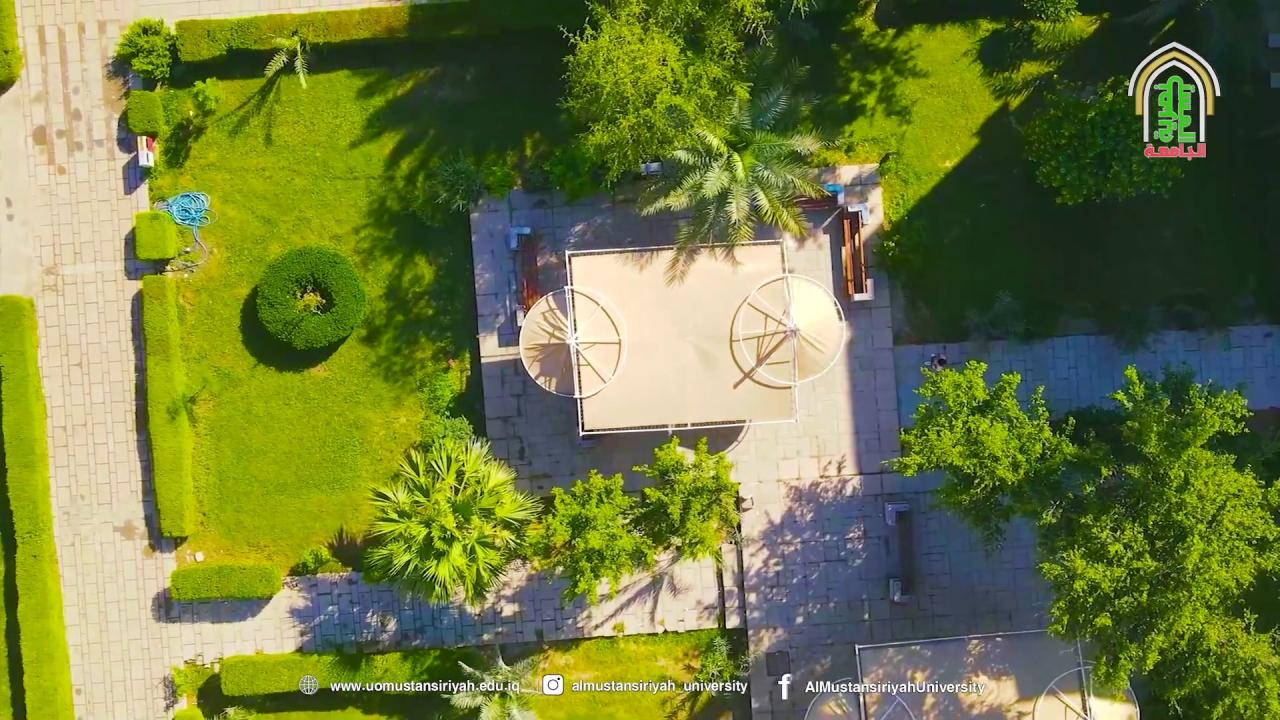tree: (881, 356, 1278, 718), (554, 0, 858, 284), (879, 357, 1084, 558), (555, 0, 770, 191), (360, 430, 544, 609), (442, 627, 758, 719), (1018, 72, 1186, 206), (523, 467, 655, 608), (630, 433, 744, 566), (253, 243, 367, 352), (406, 144, 522, 227), (444, 644, 554, 719), (109, 16, 177, 87), (261, 27, 312, 89), (123, 88, 165, 141), (0, 0, 23, 96)
